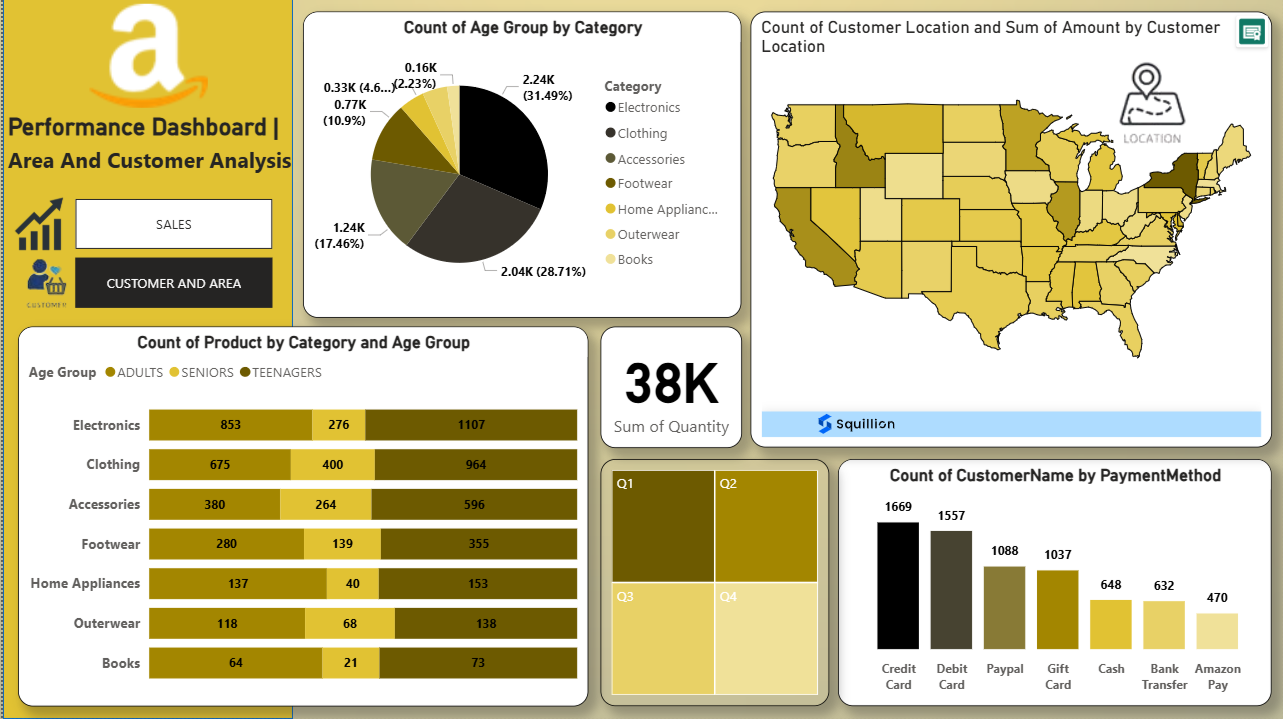

The dashboard page shown, as its layout file describes it:
{"tool":"powerbi","page":{"name":"CUSTOMRES","canvas":[1280,720],"ordinal":1},"visuals":[{"type":"shape","box":[0,0,290,720],"z":0},{"type":"pieChart","fields":{"Category":["amazon transactions.Category"],"Y":["CountNonNull(amazon transactions.Age Group)"]},"box":[299.6,12.2,447.6,306.9],"z":1000},{"type":"columnChart","fields":{"Category":["amazon transactions.PaymentMethod"],"Y":["CountNonNull(amazon transactions.CustomerName)"]},"box":[835,460,433.8,247.5],"z":2000},{"type":"treemap","fields":{"Group":["amazon transactions.Quartar"],"Values":["Count(amazon transactions.Quartar)"]},"box":[598,459.8,228.7,248.2],"z":3000},{"type":"hundredPercentStackedBarChart","fields":{"Category":["amazon transactions.Category"],"Y":["CountNonNull(amazon transactions.Product)"],"Series":["amazon transactions.Age Group"]},"box":[15,327.5,570,380],"z":4000},{"type":"card","fields":{"Values":["Sum(amazon transactions.Quantity)"]},"box":[598,327.7,149.2,121.1],"z":5000},{"type":"textbox","title":"Performance Dashboard |","box":[0,113.8,363.8,68.8],"z":6000},{"type":"bookmarkNavigator","box":[72.5,258.8,197.5,50],"z":7000},{"type":"bookmarkNavigator","box":[72.5,200,197.5,50],"z":8000},{"type":"image","box":[0,0,291.2,113.8],"z":9000},{"type":"image","box":[0,191.2,72.5,67.5],"z":10000},{"type":"MapBySquillion","fields":{"category":["amazon transactions.Customer Location"],"value":["CountNonNull(amazon transactions.Customer Location)"],"bubble":["Sum(amazon transactions.Amount)"]},"box":[755.7,12.2,513.6,436.6],"z":12000},{"type":"image","box":[1026.2,46.2,242.5,136.2],"z":13001},{"type":"image","box":[0,237.5,82.5,92.5],"z":13502}]}

Visuals, with their boxes in screenshot pixels (x1, y1, x2, y2), scaled from the page's 1280x720 canvas onto the 1283x719 screenshot:
shape: (0, 0, 291, 718)
pieChart - amazon transactions.Category x CountNonNull(amazon transactions.Age Group): (300, 12, 749, 319)
columnChart - amazon transactions.PaymentMethod x CountNonNull(amazon transactions.CustomerName): (837, 459, 1272, 707)
treemap - amazon transactions.Quartar x Count(amazon transactions.Quartar): (599, 459, 829, 707)
hundredPercentStackedBarChart - amazon transactions.Category x CountNonNull(amazon transactions.Product): (15, 327, 586, 707)
card - Sum(amazon transactions.Quantity): (599, 327, 749, 448)
"Performance Dashboard |" textbox: (0, 114, 365, 182)
bookmarkNavigator: (73, 258, 271, 308)
bookmarkNavigator: (73, 200, 271, 250)
image: (0, 0, 292, 114)
image: (0, 191, 73, 258)
MapBySquillion - amazon transactions.Customer Location x CountNonNull(amazon transactions.Customer Location): (757, 12, 1272, 448)
image: (1029, 46, 1272, 182)
image: (0, 237, 83, 330)
